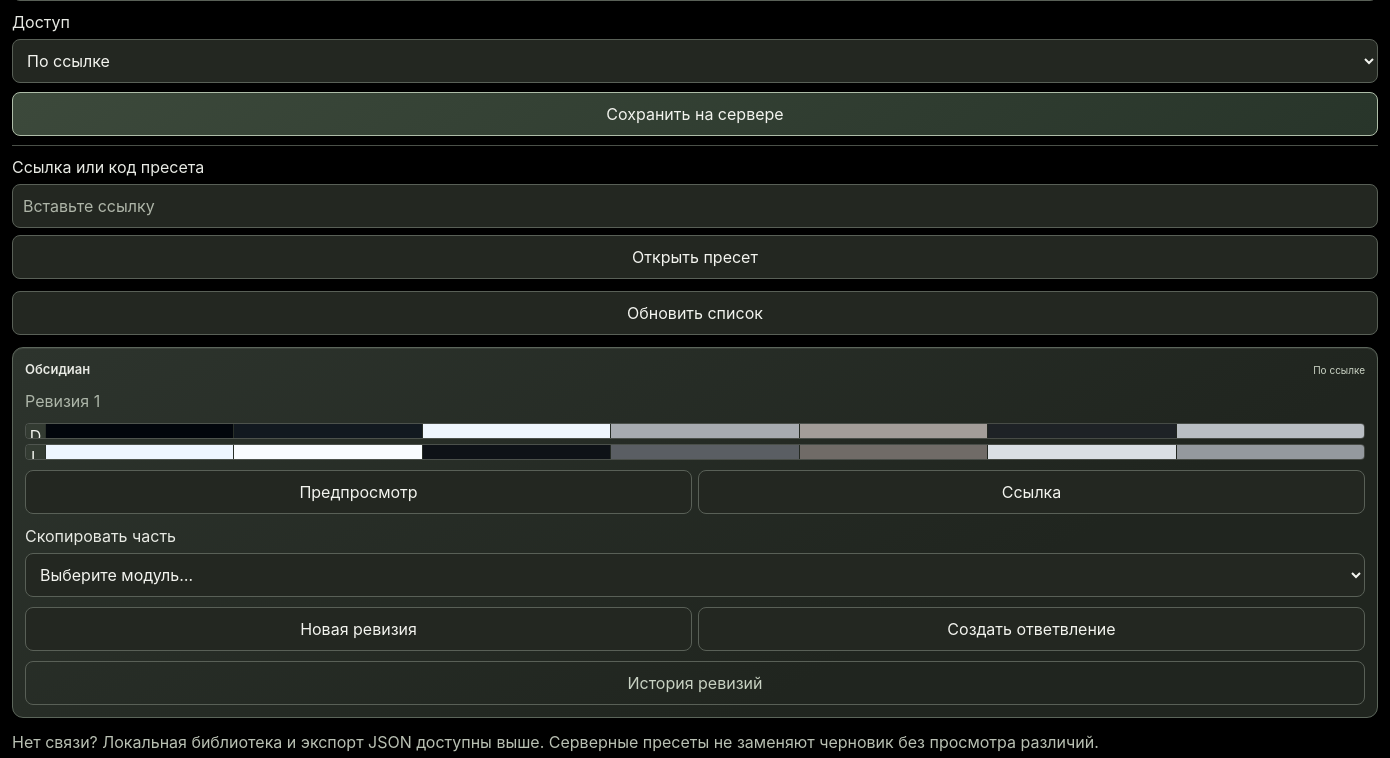
Test: remote preset library › rechecks ownership before revision and refuses to overwrite after cookie loss
(page scrolled)
Click the button "Новая ревизия": (358, 629) top-left (25, 607), bottom-right (692, 651)
(page scrolled)
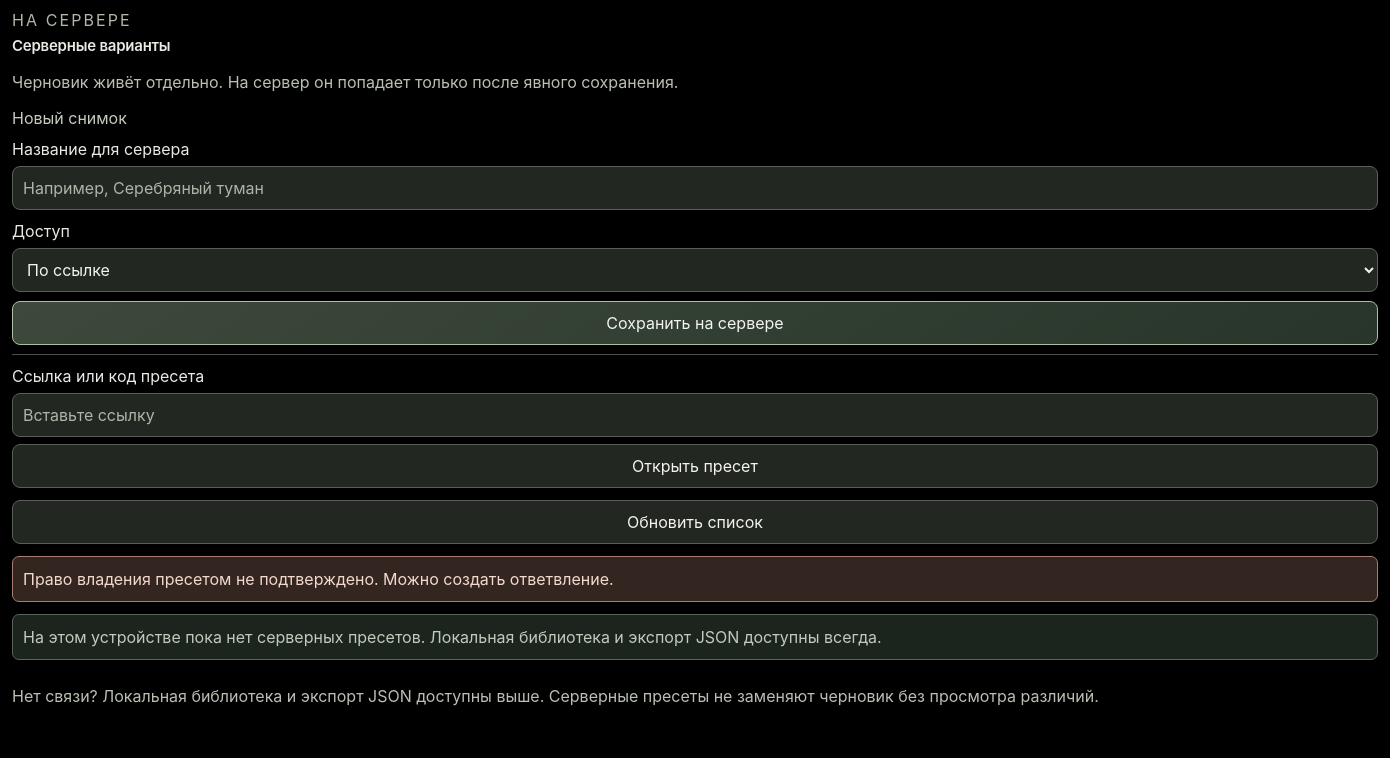
Check: the message shows "владени", box top-left (23, 568), bottom-right (614, 588)
